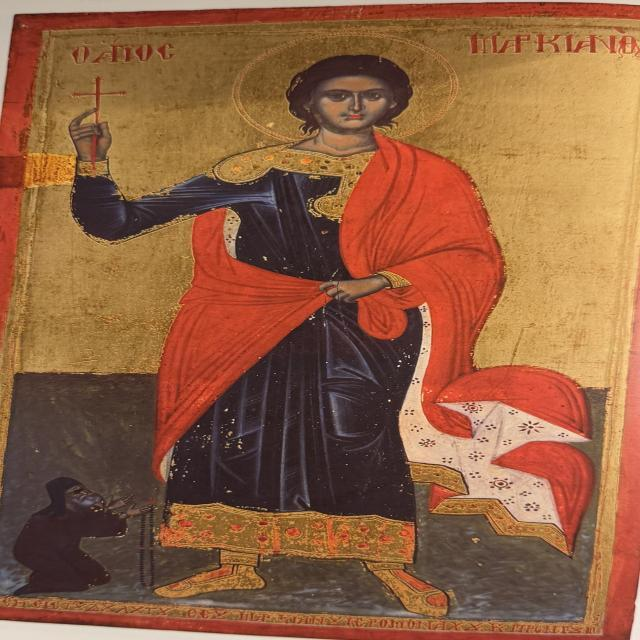aura: (237, 36, 468, 148)
saint: (168, 32, 472, 604)
